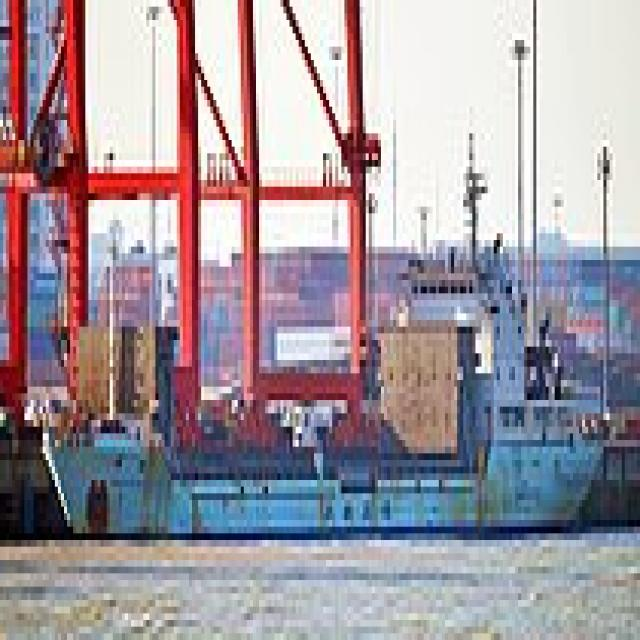Cargo: (42, 120, 616, 540)
